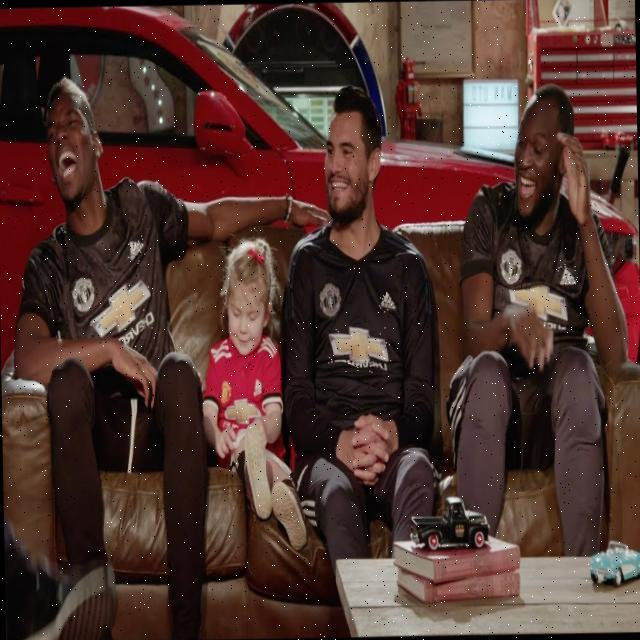Adidas: (126, 234, 146, 263), (557, 264, 578, 290), (378, 289, 398, 314)
Chevrolet: (89, 277, 155, 347), (326, 326, 391, 373)
